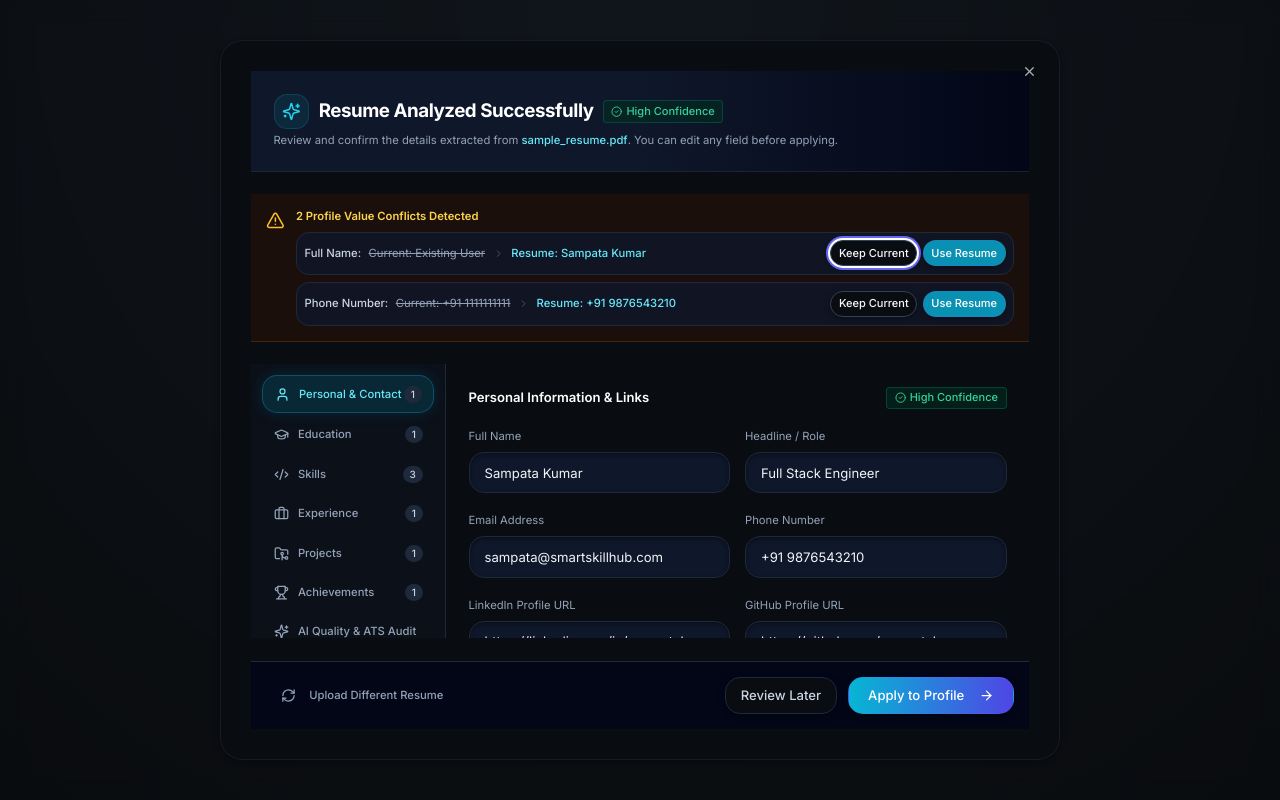
Test: Resume Upload & Extraction Frontend Suite › ResumeExtractionReviewDialog Component › 6. detects profile conflicts and allows resolving them
This screenshot has width=1280, height=800.
Expected: the heading "2 Profile Value Conflicts Detected" is shown, [296,209,478,223]
Expected: the text "Current: Existing User" is shown, [369,246,485,261]
Click the button "Keep Current" in the row of "Sampata Kumar" at (874, 253), box [830,240,917,266]
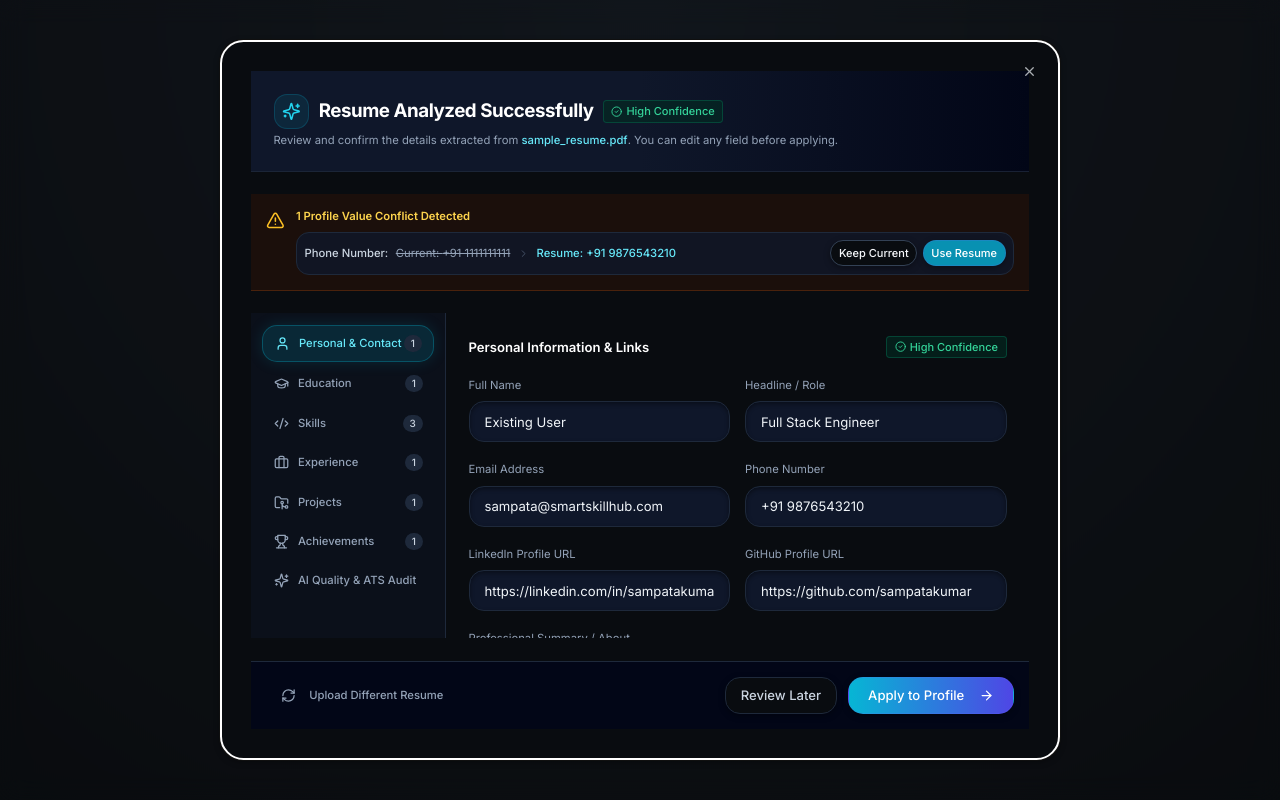
Expected: the field showing "Existing User" below "Full Name" is shown, [468,401,730,442]
